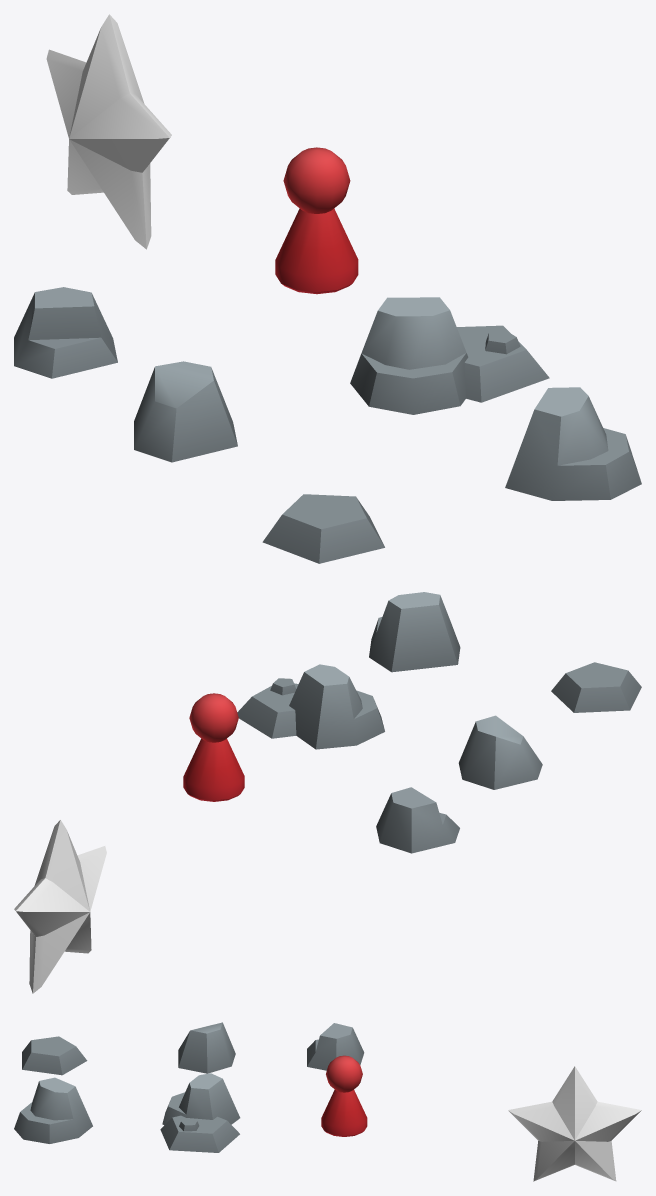
Rendered from game-extra.glb.
The picture shows the model from 3 angles, top to bottom: view 1: azimuth 30°, elevation 25°; view 2: azimuth 150°, elevation 25°; view 3: azimuth 270°, elevation 25°; orthographic projection. The views are drawn at different scales.
Visible parts, largest first — view 1: rock_single_E, star_red, rock_single_C, unit_red_full, rock_single_D, rock_single_B, rock_single_A; view 2: rock_single_E, star_red, rock_single_C, unit_red_full, rock_single_D, rock_single_B, rock_single_A; view 3: star_red, rock_single_E, rock_single_C, unit_red_full, rock_single_D, rock_single_A, rock_single_B.
Part boxes in pixels (x1,y1,x2,y2): rock_single_E: (350,297,549,414); star_red: (46,14,171,249); rock_single_C: (505,387,641,500); unit_red_full: (275,147,358,294); rock_single_D: (134,361,237,462); rock_single_B: (14,287,117,378); rock_single_A: (262,494,384,563); rock_single_E: (237,664,384,749); star_red: (14,820,106,993); rock_single_C: (369,592,460,672); unit_red_full: (183,693,244,801); rock_single_D: (458,715,542,789); rock_single_B: (376,787,459,853); rock_single_A: (551,662,641,712); star_red: (508,1066,641,1181); rock_single_E: (160,1073,240,1152); rock_single_C: (14,1077,92,1143); unit_red_full: (321,1055,367,1136); rock_single_D: (178,1022,235,1073); rock_single_A: (22,1036,87,1075); rock_single_B: (307,1023,364,1070).
Bounding box in the file's own units: 1.11 × 0.5958 × 2.73.
7 materials, 6 textured.
